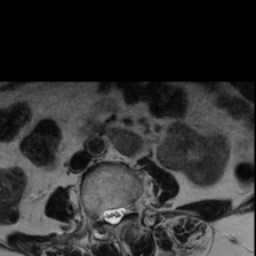CCS_stenosis: (110, 201, 117, 231)
LFS_normal: (125, 195, 133, 220)
LLS_normal: (117, 199, 125, 227)
RFS_normal: (94, 201, 102, 229)
RLS_normal: (102, 203, 110, 228)
